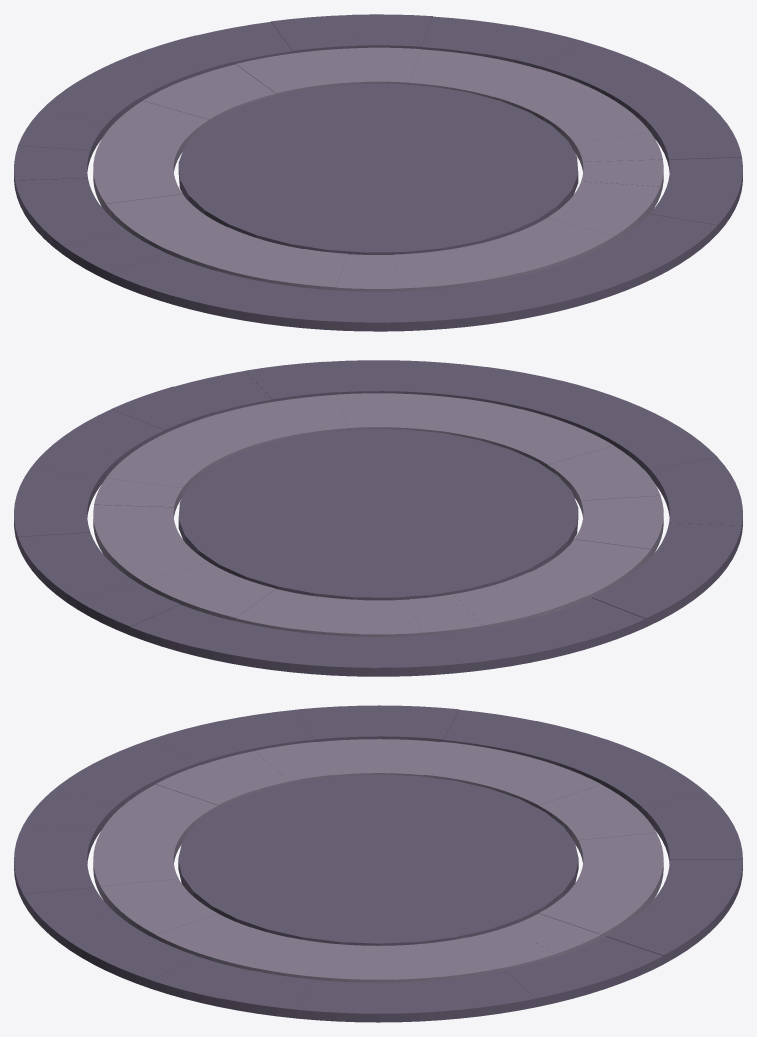
Rendered from Plaza.fbx.
The picture shows the model from 3 angles, top to bottom: view 1: azimuth 30°, elevation 25°; view 2: azimuth 150°, elevation 25°; view 3: azimuth 270°, elevation 25°; orthographic projection.
Parts seen in each view (by area): view 1: PlazaRing0_0.001; view 2: PlazaRing0_0.001; view 3: PlazaRing0_0.001.
Part boxes in pixels (left/top/right/bottom): PlazaRing0_0.001: left=14, top=14, right=742, bottom=331; PlazaRing0_0.001: left=14, top=360, right=742, bottom=676; PlazaRing0_0.001: left=14, top=705, right=742, bottom=1022.
Size of the model in its own units: 7170 by 103 by 7170.
